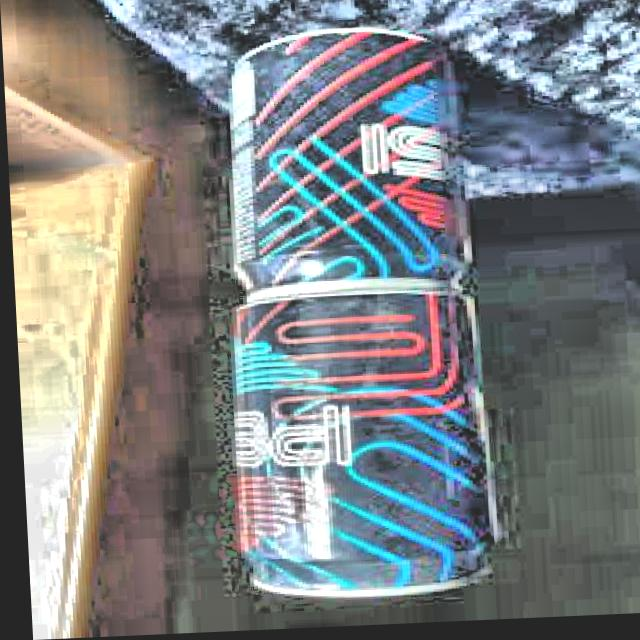can: (222, 294, 498, 609), (213, 23, 473, 304)
